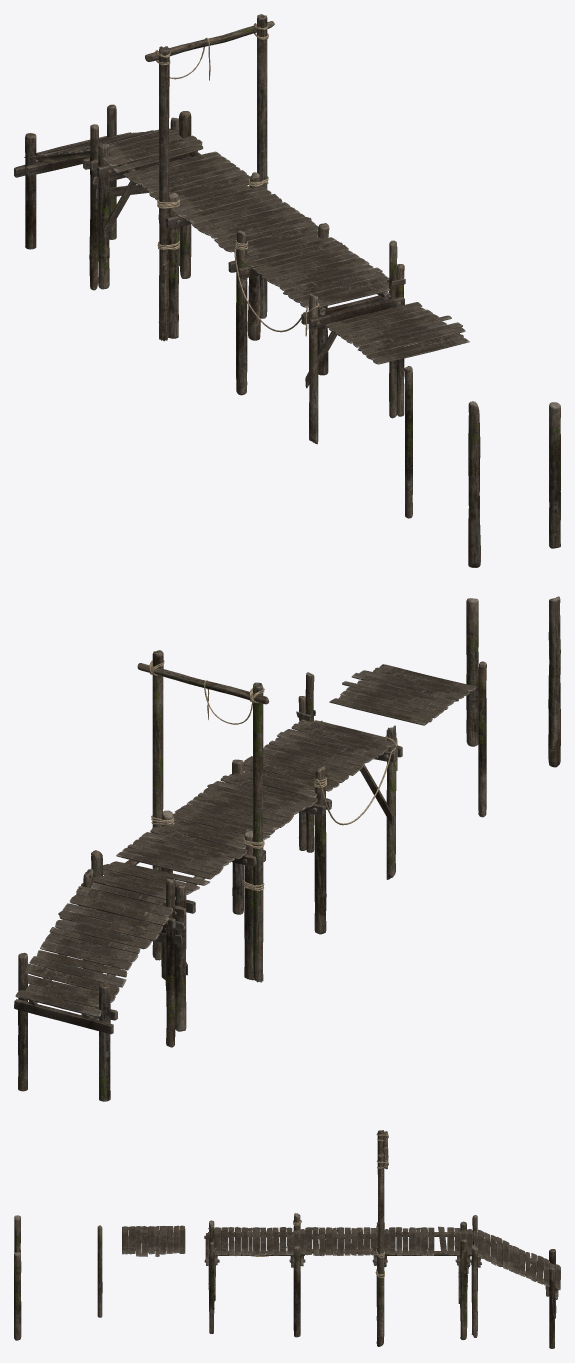
Rendered from modular_wooden_pier_2k.fbx.
3 views of the same model, one above another, from view 1: azimuth 30°, elevation 25°; view 2: azimuth 150°, elevation 25°; view 3: azimuth 270°, elevation 25° (orthographic). The views are drawn at different scales.
Parts seen in each view (by area): view 1: modular_wooden_pier_section_01, modular_wooden_pier_section_03, modular_wooden_pier_section_02, modular_wooden_pier_section_05, modular_wooden_pier_section_04, modular_wooden_pier_planks, modular_wooden_pier_poles; view 2: modular_wooden_pier_section_04, modular_wooden_pier_section_01, modular_wooden_pier_section_03, modular_wooden_pier_section_02, modular_wooden_pier_section_05, modular_wooden_pier_poles, modular_wooden_pier_planks; view 3: modular_wooden_pier_section_01, modular_wooden_pier_section_04, modular_wooden_pier_section_03, modular_wooden_pier_section_02, modular_wooden_pier_planks, modular_wooden_pier_section_05, modular_wooden_pier_poles.
Boxes of the visible parts, <box> form: modular_wooden_pier_section_01: <box>228,223,405,444</box>; modular_wooden_pier_section_03: <box>89,111,250,289</box>; modular_wooden_pier_section_02: <box>158,172,318,340</box>; modular_wooden_pier_section_05: <box>145,14,274,341</box>; modular_wooden_pier_section_04: <box>14,104,179,290</box>; modular_wooden_pier_planks: <box>325,302,469,364</box>; modular_wooden_pier_poles: <box>404,366,560,567</box>; modular_wooden_pier_section_04: <box>14,868,175,1101</box>; modular_wooden_pier_section_01: <box>225,672,402,934</box>; modular_wooden_pier_section_03: <box>81,827,247,1031</box>; modular_wooden_pier_section_02: <box>160,775,317,980</box>; modular_wooden_pier_section_05: <box>137,650,269,982</box>; modular_wooden_pier_poles: <box>466,596,560,817</box>; modular_wooden_pier_planks: <box>329,664,476,725</box>; modular_wooden_pier_section_01: <box>204,1213,305,1337</box>; modular_wooden_pier_section_04: <box>471,1215,560,1348</box>; modular_wooden_pier_section_03: <box>376,1221,473,1339</box>; modular_wooden_pier_section_02: <box>292,1222,389,1346</box>; modular_wooden_pier_planks: <box>122,1225,185,1256</box>; modular_wooden_pier_section_05: <box>375,1130,388,1337</box>; modular_wooden_pier_poles: <box>14,1215,102,1340</box>.
Size of the model in its own units: 310 by 752 by 1903.
Materials: 2 (2 with a texture image).
